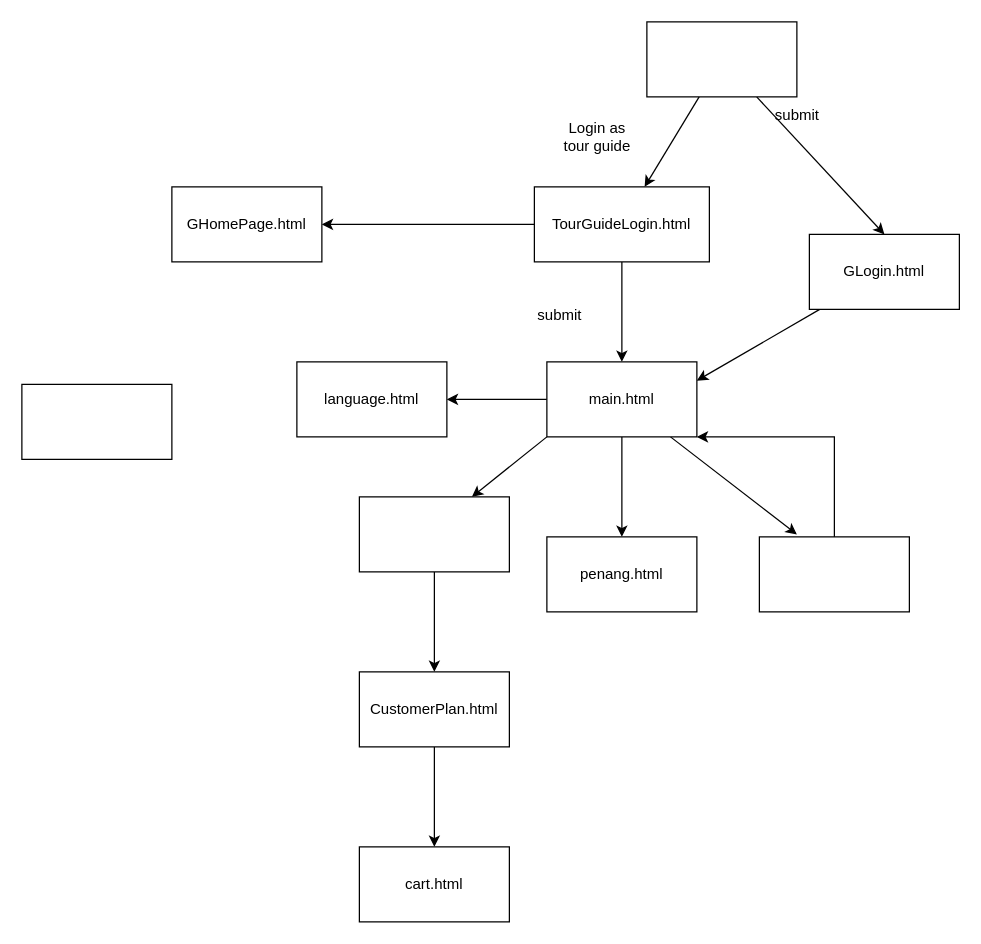
Some shapes in this 981 by 944 pixel diagram are drawn without their labels. Each missing label, with the box of its shape:
melakav2.html: (758, 536, 909, 612)
searchResult.html: (358, 496, 509, 572)
TourGuideBid.html: (21, 383, 172, 459)
userLogin.html: (646, 21, 797, 97)
